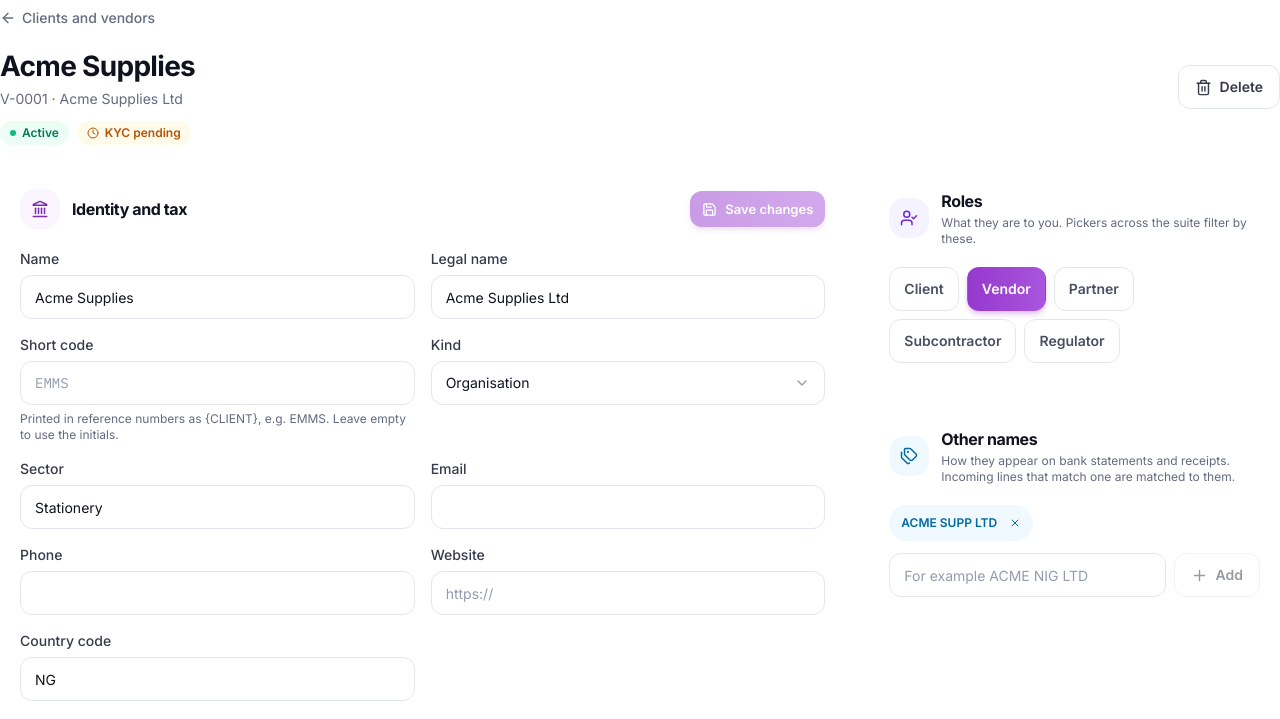
Scenario: the record › shows the API's refusal to delete one still in use
Step 1. Click the button "Delete" → (1229, 87), box [1178,65,1279,109]
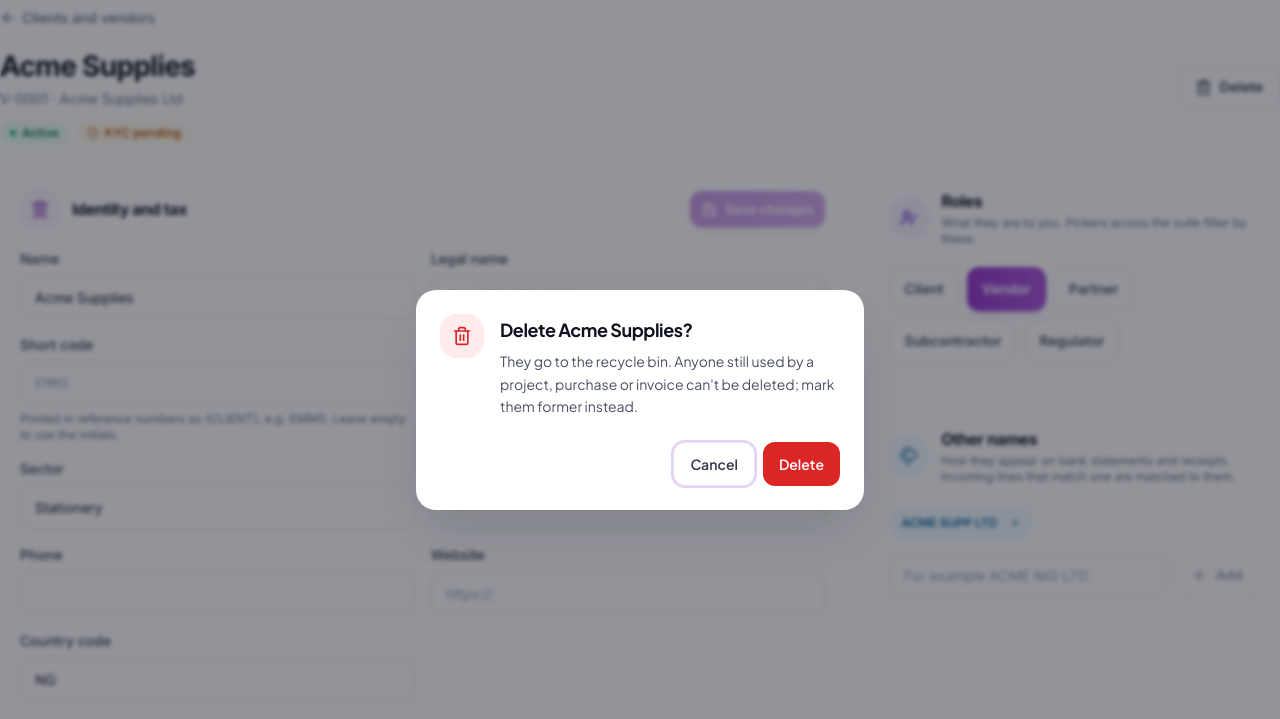
Step 2. Click the button "Delete" → (801, 464), box [763,442,840,486]
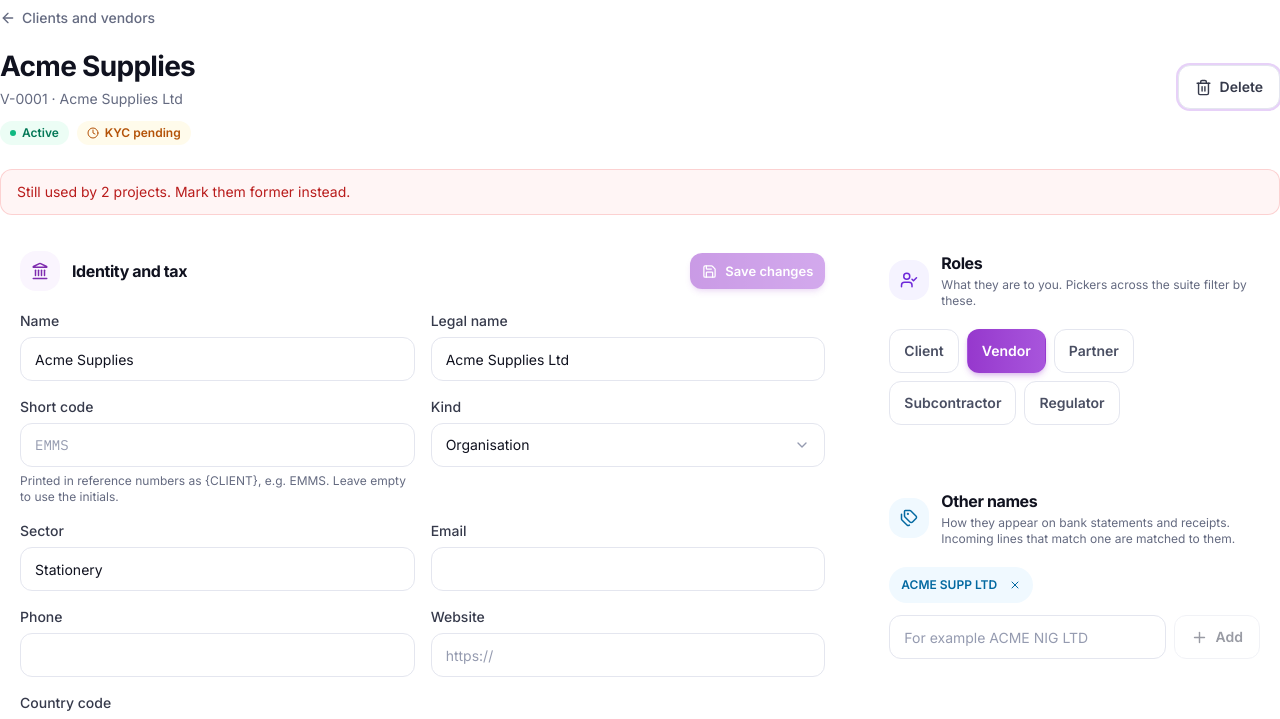
Check: the text "Still used by 2 projects. Mark them former instead." is shown, box [0,169,1279,215]
